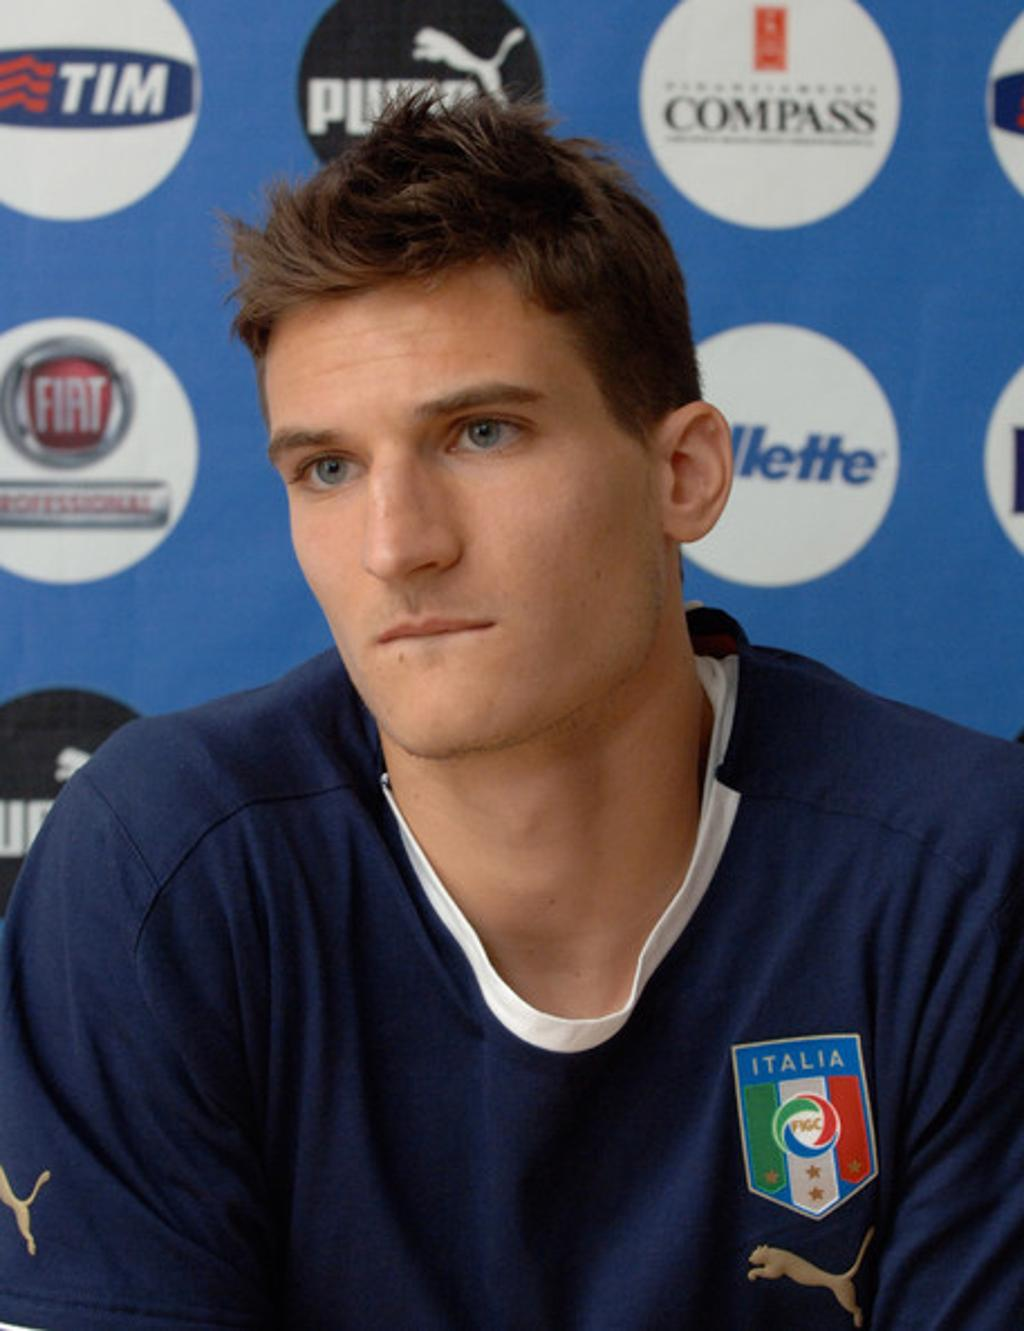face: (257, 286, 665, 751)
